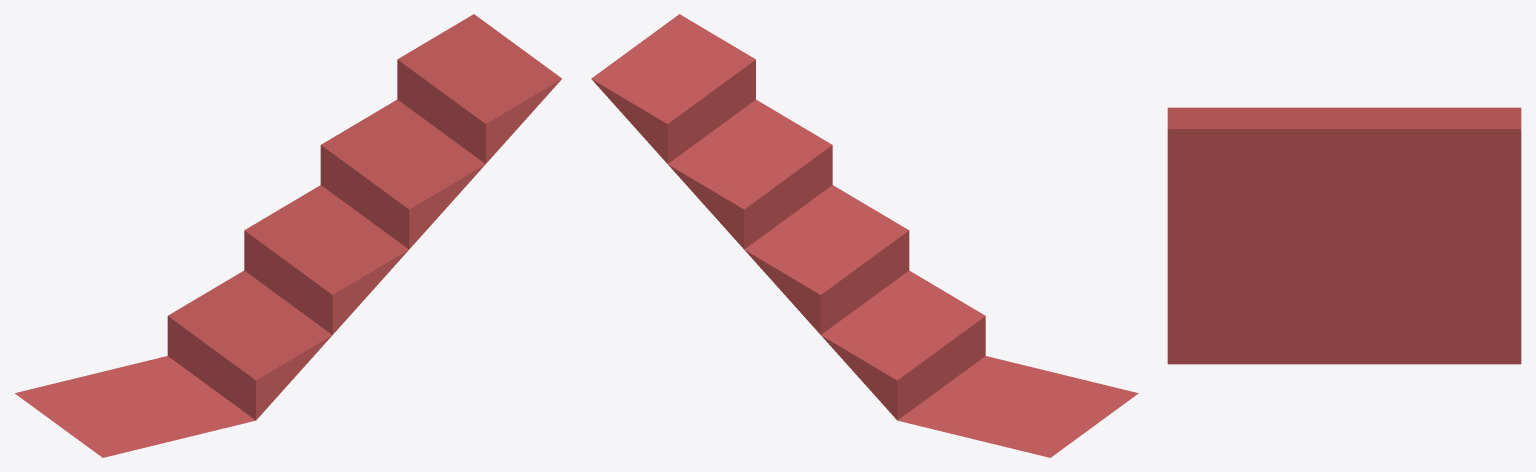
File: km1_dorifu2.glb
The picture shows the model from 3 angles, left to right: view 1: azimuth 30°, elevation 25°; view 2: azimuth 150°, elevation 25°; view 3: azimuth 270°, elevation 25°; orthographic projection. The views are drawn at different scales.
Parts seen in each view (by area): view 1: km1_dorifu2_col; view 2: km1_dorifu2_col; view 3: km1_dorifu2_col.
Part boxes in pixels (x1,y1,x2,y2): km1_dorifu2_col: [15, 14, 561, 457]; km1_dorifu2_col: [591, 14, 1138, 457]; km1_dorifu2_col: [1167, 107, 1521, 364].
Size of the model in its own units: 1.8 by 1 by 0.6015.
